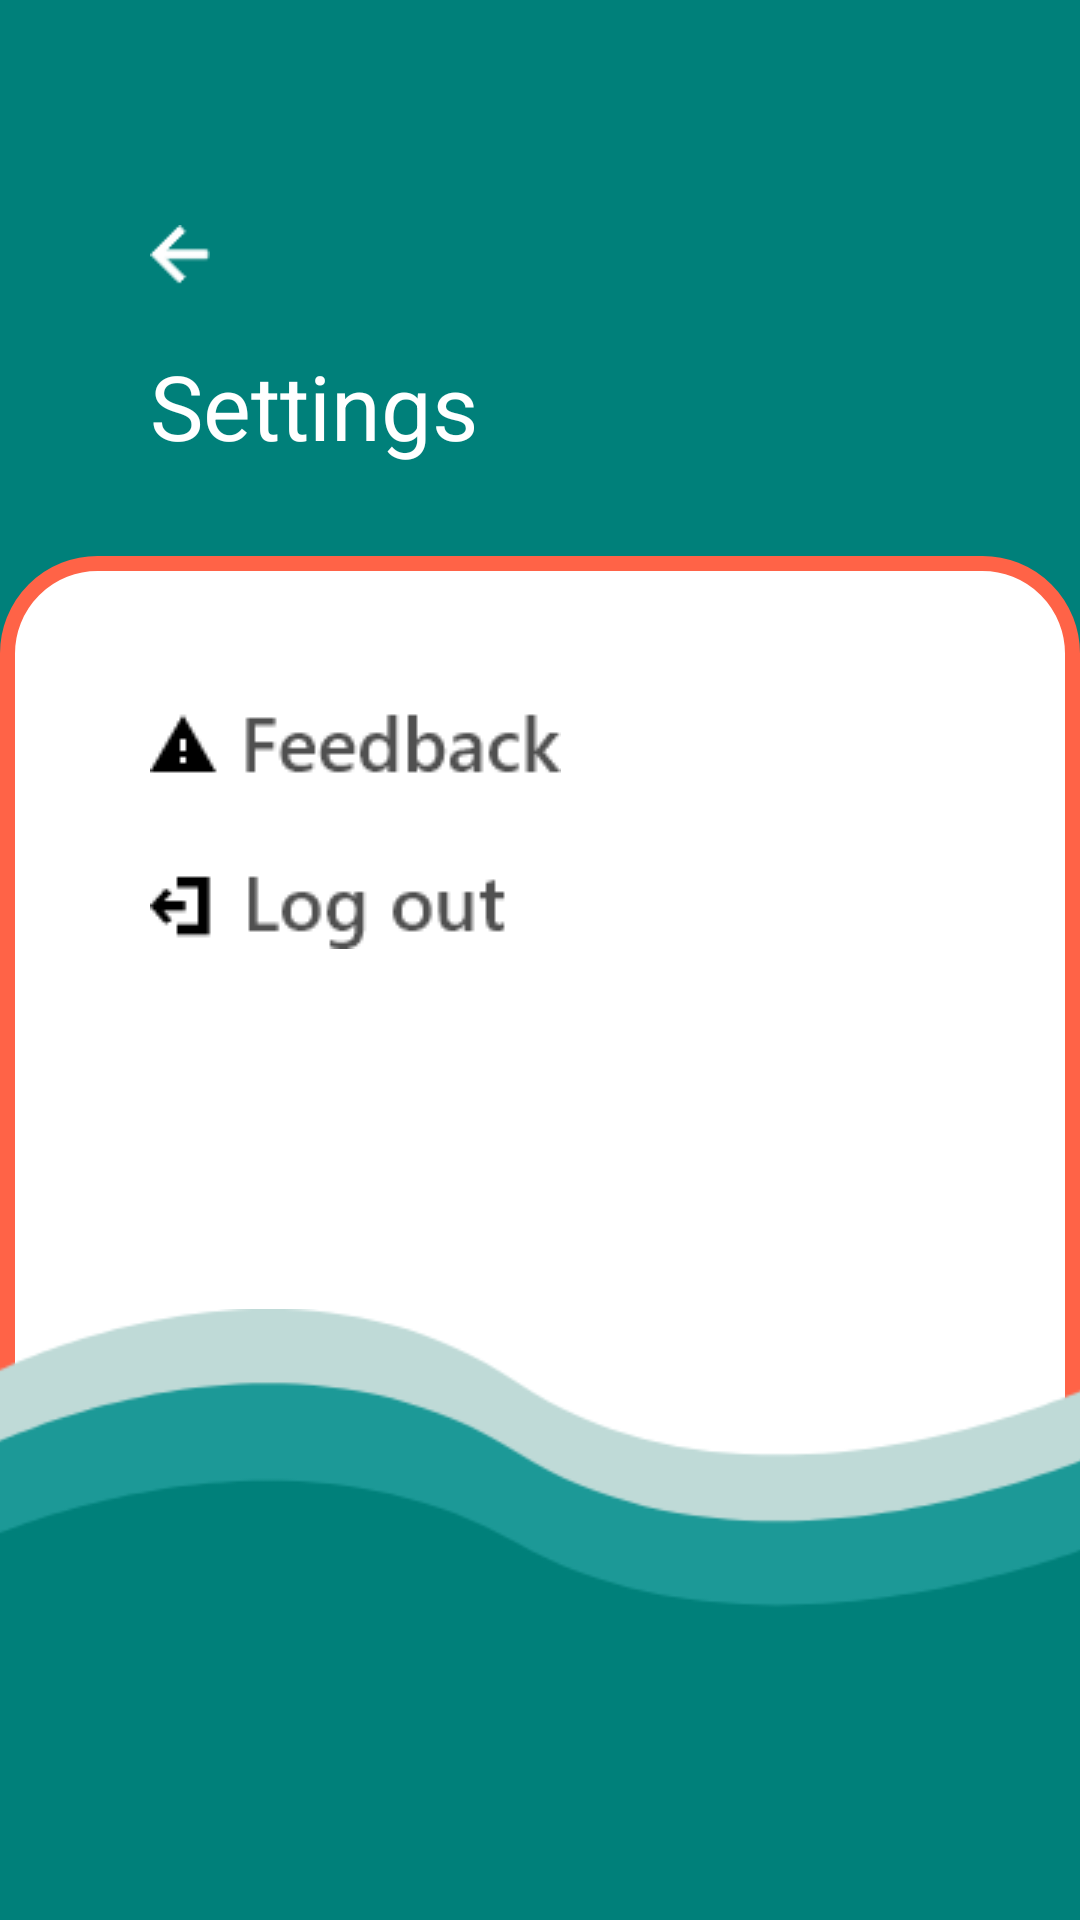

Icon bounding boxes for this 1080*1920 phone screenshot, format (x1, y1, x2, y2):
arrow back: (150, 225, 210, 284)
